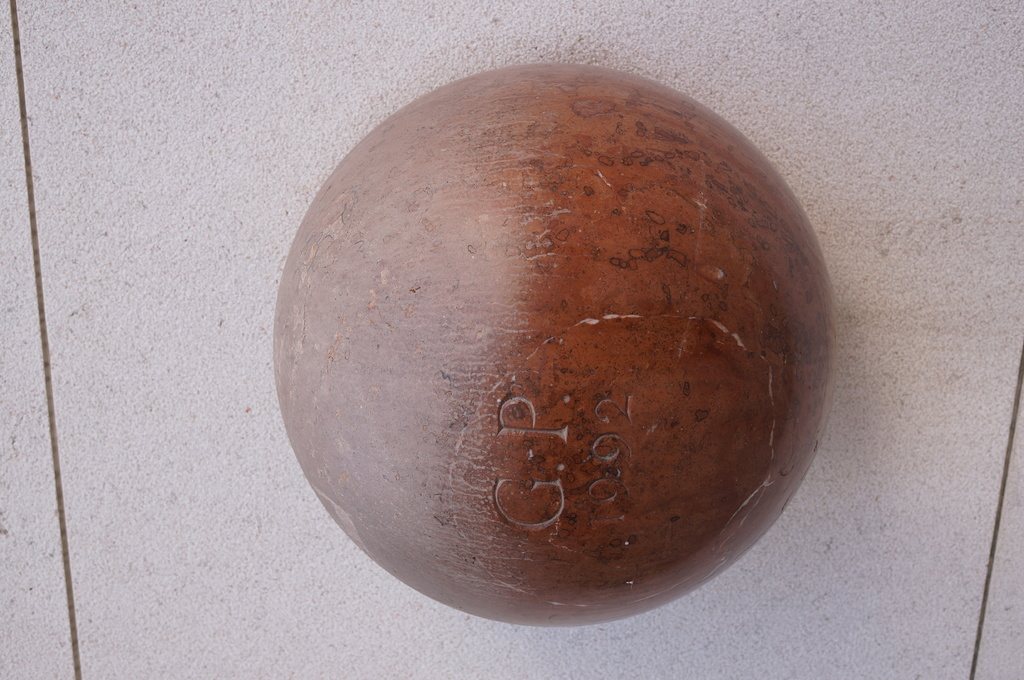Ball: (277, 62, 835, 626)
